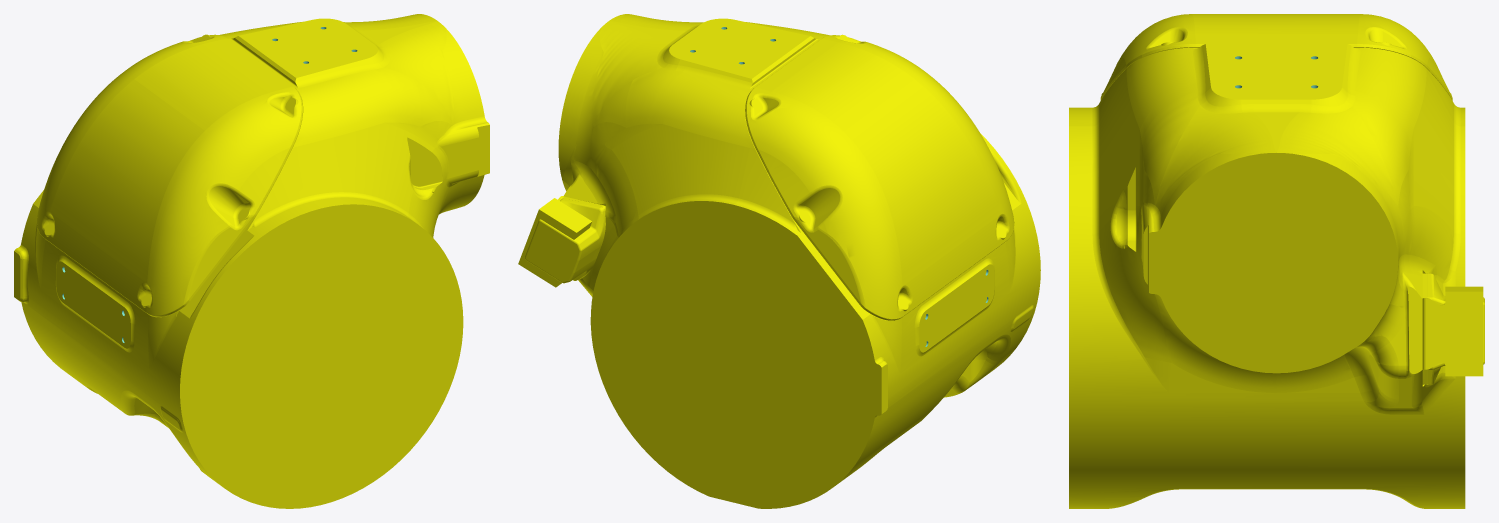
3 renders of one model, left to right at view 1: azimuth 30°, elevation 25°; view 2: azimuth 150°, elevation 25°; view 3: azimuth 270°, elevation 25°, orthographic. The views are drawn at different scales.
Visible parts, largest first — view 1: Mesh_0; view 2: Mesh_0; view 3: Mesh_0.
Boxes of the visible parts, bbox=[...] form: Mesh_0: bbox=[14, 14, 489, 508]; Mesh_0: bbox=[518, 14, 1040, 508]; Mesh_0: bbox=[1069, 14, 1484, 508].
Bounding box in the file's own units: 0.3279 × 0.2735 × 0.337.
